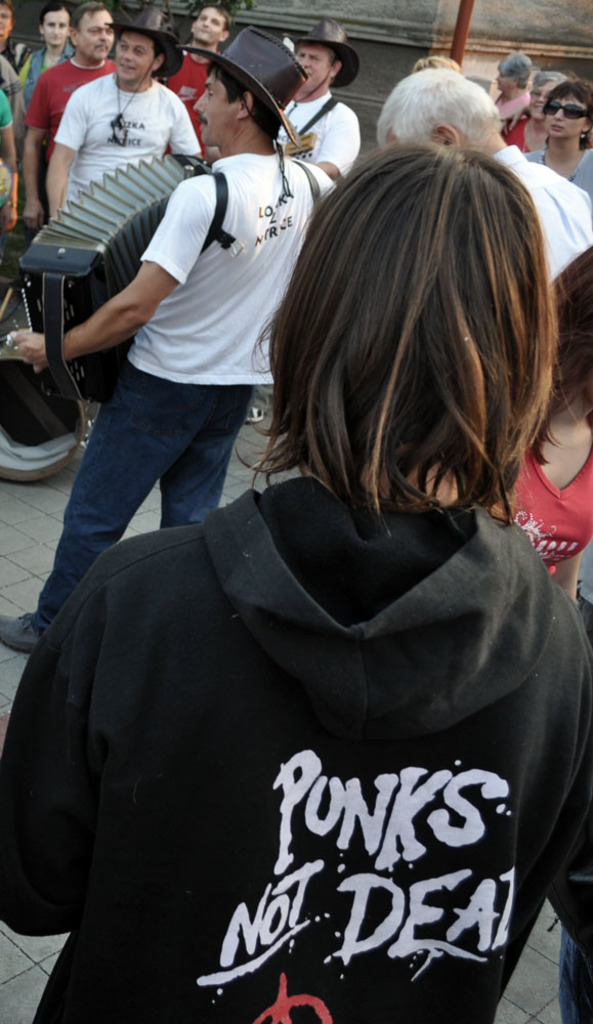Human_hand: (11, 329, 42, 364), (499, 108, 530, 136), (19, 202, 43, 233), (2, 203, 22, 233)
